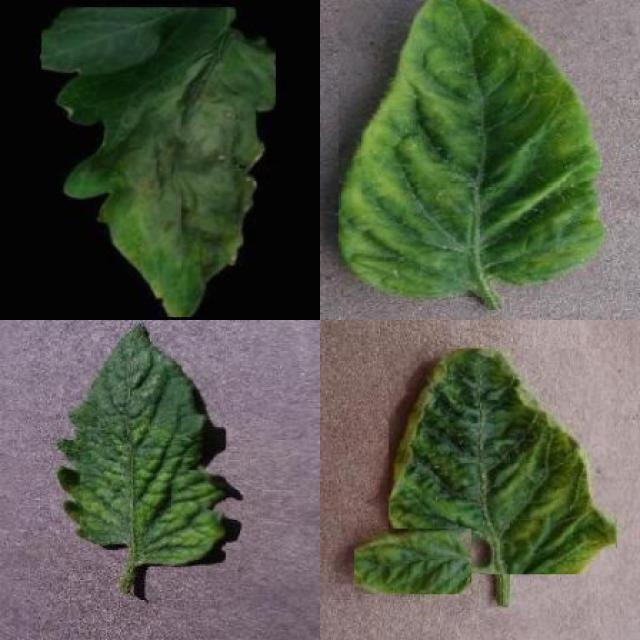Late Blight: (41, 6, 276, 317)
Mosaic Virus: (52, 321, 225, 566)
Yellow Leaf Curl Virus: (338, 0, 603, 297), (389, 349, 617, 574), (354, 529, 472, 594)
